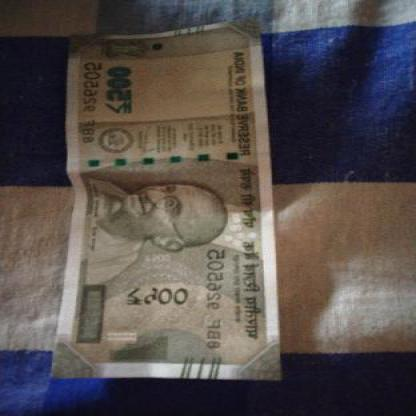New500Front: (58, 29, 266, 375)
